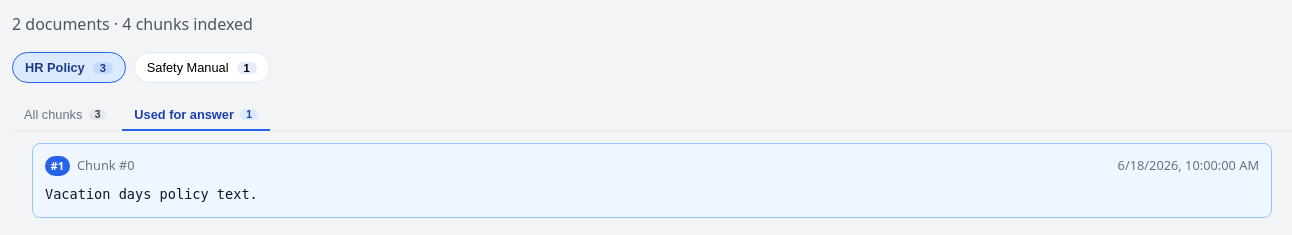
it: DocumentChunksExplorer › switches document chunks with subtabs
Check: the element with test id "document-chunks-tabs" is shown, box [12,52,270,83]
Check: the list item with test id "chunk-chunk-1" is shown, box [32,143,1272,218]
Click the tab with test id "document-tab-doc-2" at [202, 68], box [134,52,270,83]
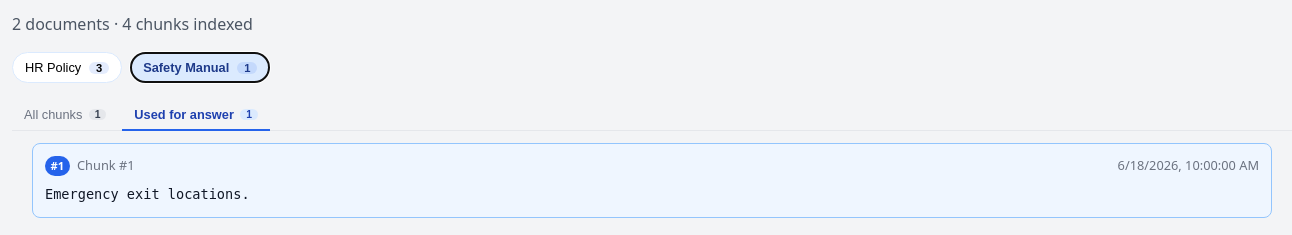
Check: the list item with test id "chunk-chunk-2" is shown, box [32,143,1272,218]
Check: the list item with test id "chunk-chunk-1" is gone
Check: the element with test id "chunk-view-tabs-doc-2" is shown, box [12,99,1291,131]
